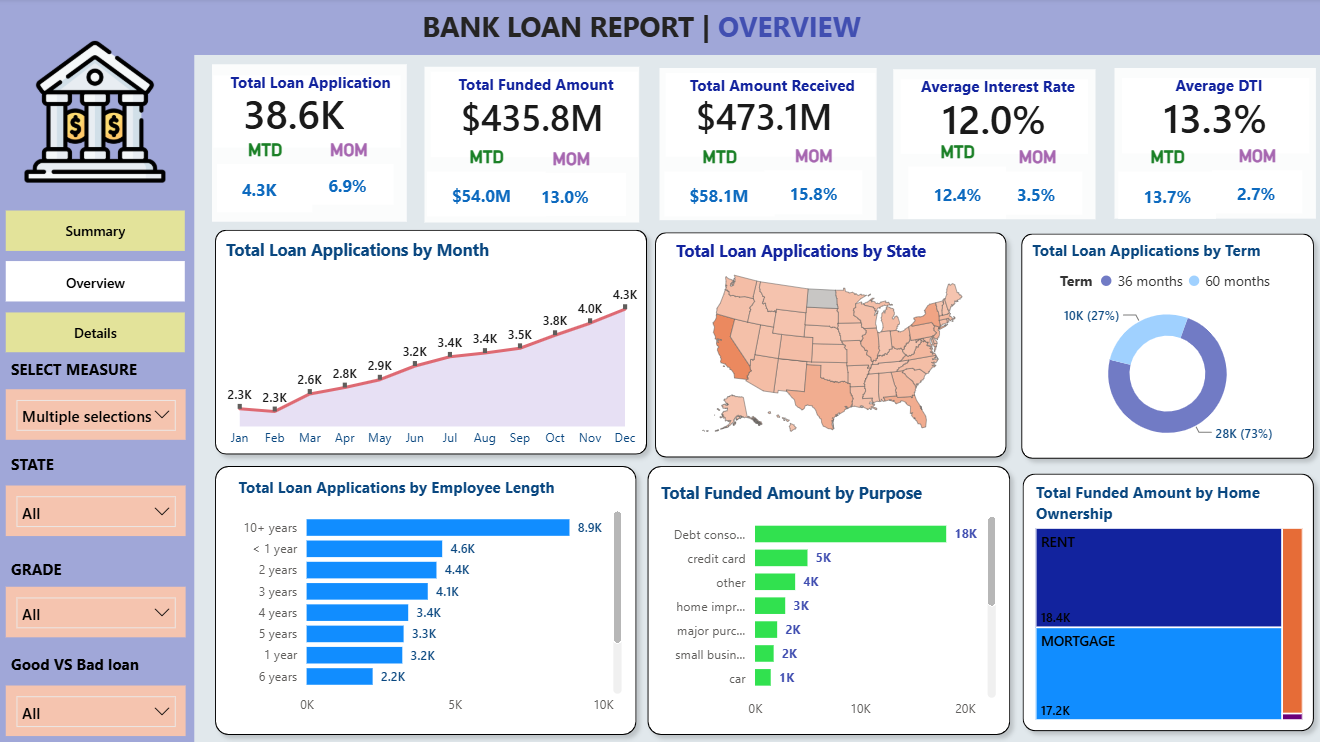

What the dashboard file says about the page in this screenshot:
{"tool":"powerbi","page":{"name":"Overview","canvas":[1280,720],"ordinal":1},"visuals":[{"type":"shape","box":[0,0,1280,55],"z":0},{"type":"shape","box":[208.2,63.9,188.2,152],"z":0,"group":"g1"},{"type":"shape","box":[413.1,65.9,207.5,150.3],"z":0,"group":"g3"},{"type":"shape","box":[639.4,67.6,209.9,146.9],"z":0,"group":"g5"},{"type":"shape","box":[1078.2,67.6,194.7,145.4],"z":0,"group":"g6"},{"type":"shape","box":[865.2,68.8,195.2,145.1],"z":0,"group":"g4"},{"type":"shape","box":[626,217,357.1,235.3],"z":0,"group":"g7"},{"type":"cardVisual","fields":{"Data":["Bank Loan data.total funded AMOUNT"]},"box":[419.2,71.3,199.8,82.4],"z":1000,"group":"g3"},{"type":"cardVisual","fields":{"Data":["Bank Loan data.total amount recived"]},"box":[645.5,72.8,202.1,80.5],"z":1000,"group":"g5"},{"type":"cardVisual","fields":{"Data":["Bank Loan data.Total Loan Applications"]},"box":[208.6,74.5,181,70],"z":1000,"group":"g1"},{"type":"cardVisual","fields":{"Data":["Bank Loan data.Avg dti"]},"box":[1085.5,77.7,180.4,72.5],"z":1000,"group":"g6"},{"type":"cardVisual","fields":{"Data":["Bank Loan data.average interest rate"]},"box":[872.5,78.9,180.9,72.3],"z":1000,"group":"g4"},{"type":"shapeMap","fields":{"Value":["Bank Loan data.Total Amount Received"],"Category":["Bank Loan data.Address State"]},"box":[650.1,232.7,312.5,199.1],"z":1000,"group":"g7"},{"type":"shape","box":[618.9,442.8,368,277.5],"z":1000},{"type":"shape","box":[0,51.9,190.6,668.4],"z":2000},{"type":"textbox","box":[216,65.9,173.3,34.2],"z":2000,"group":"g1"},{"type":"textbox","box":[428.6,67.2,184.1,36.6],"z":2000,"group":"g3"},{"type":"textbox","box":[655.1,68.9,186.3,35.8],"z":2000,"group":"g5"},{"type":"textbox","box":[1092.8,68.9,172.8,35.4],"z":2000,"group":"g6"},{"type":"textbox","box":[879.8,70.1,173.3,35.3],"z":2000,"group":"g4"},{"type":"textbox","box":[405.4,3.6,459.7,48.3],"z":3000},{"type":"cardVisual","title":"MTD","fields":{"Data":["Bank Loan data.MTD loan application"]},"box":[207.9,136.5,102.5,76],"z":3000,"group":"g1"},{"type":"cardVisual","title":"MTD","fields":{"Data":["Bank Loan data.Mtd average interest"]},"box":[874.6,139.1,105,79.6],"z":3000,"group":"g4"},{"type":"cardVisual","title":"MTD","fields":{"Data":["Bank Loan data.Mtd Total amont received"]},"box":[639.9,143,116.3,73],"z":3000,"group":"g5"},{"type":"cardVisual","title":"MTD","fields":{"Data":["Bank Loan data.MTD FUNDED AMOUNT"]},"box":[410.3,143.5,124.7,72.2],"z":3000,"group":"g3"},{"type":"cardVisual","title":"MTD","fields":{"Data":["Bank Loan data.MTD Avg DTI"]},"box":[1077.4,143.5,104.9,74.9],"z":3000,"group":"g6"},{"type":"group","id":"g1","title":"Group 1","box":[207.9,63.9,188.5,152],"z":4000},{"type":"cardVisual","title":"MOM","fields":{"Data":["Bank Loan data.mon loan application"]},"box":[291.6,136.7,97.6,68.3],"z":4000,"group":"g1"},{"type":"cardVisual","title":"MOM","fields":{"Data":["Bank Loan data.MOM avg dti"]},"box":[1168.2,142.2,97.3,70.8],"z":4000,"group":"g6"},{"type":"cardVisual","title":"MOM","fields":{"Data":["Bank Loan data.mon total amount application"]},"box":[736.5,142.9,105,71.5],"z":4000,"group":"g5"},{"type":"cardVisual","title":"MOM","fields":{"Data":["Bank Loan data.moM avg interest rate"]},"box":[955.5,143.2,97.6,70.7],"z":4000,"group":"g4"},{"type":"cardVisual","title":"MOM","fields":{"Data":["Bank Loan data.mon FUNDED AMOUNT application"]},"box":[496.5,144.8,116.9,70.9],"z":4000,"group":"g3"},{"type":"group","id":"g2","title":"Group 1","box":[410.3,65.9,210.3,150.3],"z":5000},{"type":"group","id":"g3","title":"Group 2","box":[410.3,65.9,210.3,150.3],"z":5001,"group":"g2"},{"type":"group","id":"g4","title":"Group 1","box":[865.2,68.8,195.2,149.9],"z":6000},{"type":"group","id":"g5","title":"Group 2","box":[639.4,67.6,209.9,148.4],"z":7000},{"type":"group","id":"g6","title":"Group 1","box":[1077.4,67.6,195.4,150.8],"z":8000},{"type":"shape","box":[200.9,215.3,435,235],"z":9000},{"type":"slicer","fields":{"Values":["Bank Loan data.Address State"]},"box":[8.5,471,174,49.1],"z":9000,"group":"g8"},{"type":"areaChart","fields":{"Y":["Bank Loan data.Total Amount Received"],"Category":["Date Table.Month"]},"box":[216,231.6,409,211.1],"z":10000},{"type":"textbox","box":[8.5,434.5,70.6,39],"z":10000,"group":"g8"},{"type":"shape","box":[979.6,218.4,300.4,235.3],"z":11000},{"type":"slicer","fields":{"Values":["Bank Loan data.Grade"]},"box":[8.5,567.9,174,49.1],"z":11000,"group":"g8"},{"type":"group","id":"g7","title":"Group 3","box":[626,217,357.1,235.3],"z":12000},{"type":"slicer","fields":{"Values":["Bank Loan data.Good VS Bad Loan"]},"box":[8.5,663.6,174,49.1],"z":12000,"group":"g8"},{"type":"donutChart","fields":{"Y":["Bank Loan data.Total Amount Received"],"Category":["Bank Loan data.term"]},"box":[994.1,232.8,271.4,209.9],"z":13000},{"type":"textbox","box":[8.5,535.2,70.6,39],"z":13000,"group":"g8"},{"type":"shape","box":[980.8,450,299.2,266.6],"z":14000},{"type":"textbox","box":[8.4,627.2,165.5,38.5],"z":14000,"group":"g8"},{"type":"barChart","title":"Total Funded Amount by Purpose","fields":{"Y":["Bank Loan data.Total Amount Received"],"Category":["Bank Loan data.Purpose Of Loan"]},"box":[635.8,465.3,333.4,238.9],"z":15000},{"type":"pageNavigator","box":[8.4,205.1,173.7,139.9],"z":16000},{"type":"slicer","fields":{"Values":["Select Measure.Select Measure"]},"box":[8.5,377.8,174,49.1],"z":16000,"group":"g8"},{"type":"image","box":[26.5,35,136.3,149.6],"z":17000},{"type":"textbox","box":[8.5,342.6,165.1,30.2],"z":17000,"group":"g8"},{"type":"group","id":"g8","title":"Group 4","box":[8.4,342.6,173.7,370.4],"z":18000},{"type":"treemap","title":"Total Funded Amount by Home Ownership","fields":{"Values":["Bank Loan data.Total Amount Received"],"Group":["Bank Loan data.home_ownership"]},"box":[997.8,466.9,267.5,235.1],"z":19000},{"type":"shape","box":[201.5,442.8,424.7,277.5],"z":20000},{"type":"barChart","fields":{"Y":["Bank Loan data.Total Amount Received"],"Category":["Bank Loan data.Employee Length"]},"box":[228,462.1,380,238.6],"z":21000}]}

Visuals, with their boxes in screenshot pixels (x1, y1, x2, y2), scaled from the page's 1280x720 canvas onto the 1320x742 screenshot:
shape: (left=0, top=0, right=1319, bottom=57)
shape: (left=215, top=66, right=409, bottom=222)
shape: (left=426, top=68, right=640, bottom=223)
shape: (left=659, top=70, right=876, bottom=221)
shape: (left=1112, top=70, right=1313, bottom=220)
shape: (left=892, top=71, right=1094, bottom=220)
shape: (left=646, top=224, right=1014, bottom=466)
cardVisual - Bank Loan data.total funded AMOUNT: (left=432, top=73, right=638, bottom=158)
cardVisual - Bank Loan data.total amount recived: (left=666, top=75, right=874, bottom=158)
cardVisual - Bank Loan data.Total Loan Applications: (left=215, top=77, right=402, bottom=149)
cardVisual - Bank Loan data.Avg dti: (left=1119, top=80, right=1305, bottom=155)
cardVisual - Bank Loan data.average interest rate: (left=900, top=81, right=1086, bottom=156)
shapeMap - Bank Loan data.Total Amount Received x Bank Loan data.Address State: (left=670, top=240, right=993, bottom=445)
shape: (left=638, top=456, right=1018, bottom=741)
shape: (left=0, top=53, right=197, bottom=741)
textbox: (left=223, top=68, right=401, bottom=103)
textbox: (left=442, top=69, right=632, bottom=107)
textbox: (left=676, top=71, right=868, bottom=108)
textbox: (left=1127, top=71, right=1305, bottom=107)
textbox: (left=907, top=72, right=1086, bottom=109)
textbox: (left=418, top=4, right=892, bottom=53)
"MTD" cardVisual: (left=214, top=141, right=320, bottom=219)
"MTD" cardVisual: (left=902, top=143, right=1010, bottom=225)
"MTD" cardVisual: (left=660, top=147, right=780, bottom=223)
"MTD" cardVisual: (left=423, top=148, right=552, bottom=222)
"MTD" cardVisual: (left=1111, top=148, right=1219, bottom=225)
"Group 1" group: (left=214, top=66, right=409, bottom=222)
"MOM" cardVisual: (left=301, top=141, right=401, bottom=211)
"MOM" cardVisual: (left=1205, top=147, right=1305, bottom=220)
"MOM" cardVisual: (left=760, top=147, right=868, bottom=221)
"MOM" cardVisual: (left=985, top=148, right=1086, bottom=220)
"MOM" cardVisual: (left=512, top=149, right=633, bottom=222)
"Group 1" group: (left=423, top=68, right=640, bottom=223)
"Group 2" group: (left=423, top=68, right=640, bottom=223)
"Group 1" group: (left=892, top=71, right=1094, bottom=225)
"Group 2" group: (left=659, top=70, right=876, bottom=223)
"Group 1" group: (left=1111, top=70, right=1313, bottom=225)
shape: (left=207, top=222, right=656, bottom=464)
slicer - Bank Loan data.Address State: (left=9, top=485, right=188, bottom=536)
areaChart - Bank Loan data.Total Amount Received x Date Table.Month: (left=223, top=239, right=645, bottom=456)
textbox: (left=9, top=448, right=82, bottom=488)
shape: (left=1010, top=225, right=1319, bottom=468)
slicer - Bank Loan data.Grade: (left=9, top=585, right=188, bottom=636)
"Group 3" group: (left=646, top=224, right=1014, bottom=466)
slicer - Bank Loan data.Good VS Bad Loan: (left=9, top=684, right=188, bottom=734)
donutChart - Bank Loan data.Total Amount Received x Bank Loan data.term: (left=1025, top=240, right=1305, bottom=456)
textbox: (left=9, top=552, right=82, bottom=592)
shape: (left=1011, top=464, right=1319, bottom=738)
textbox: (left=9, top=646, right=179, bottom=686)
"Total Funded Amount by Purpose" barChart: (left=656, top=480, right=999, bottom=726)
pageNavigator: (left=9, top=211, right=188, bottom=356)
slicer - Select Measure.Select Measure: (left=9, top=389, right=188, bottom=440)
image: (left=27, top=36, right=168, bottom=190)
textbox: (left=9, top=353, right=179, bottom=384)
"Group 4" group: (left=9, top=353, right=188, bottom=735)
"Total Funded Amount by Home Ownership" treemap: (left=1029, top=481, right=1305, bottom=723)
shape: (left=208, top=456, right=646, bottom=741)
barChart - Bank Loan data.Total Amount Received x Bank Loan data.Employee Length: (left=235, top=476, right=627, bottom=722)
